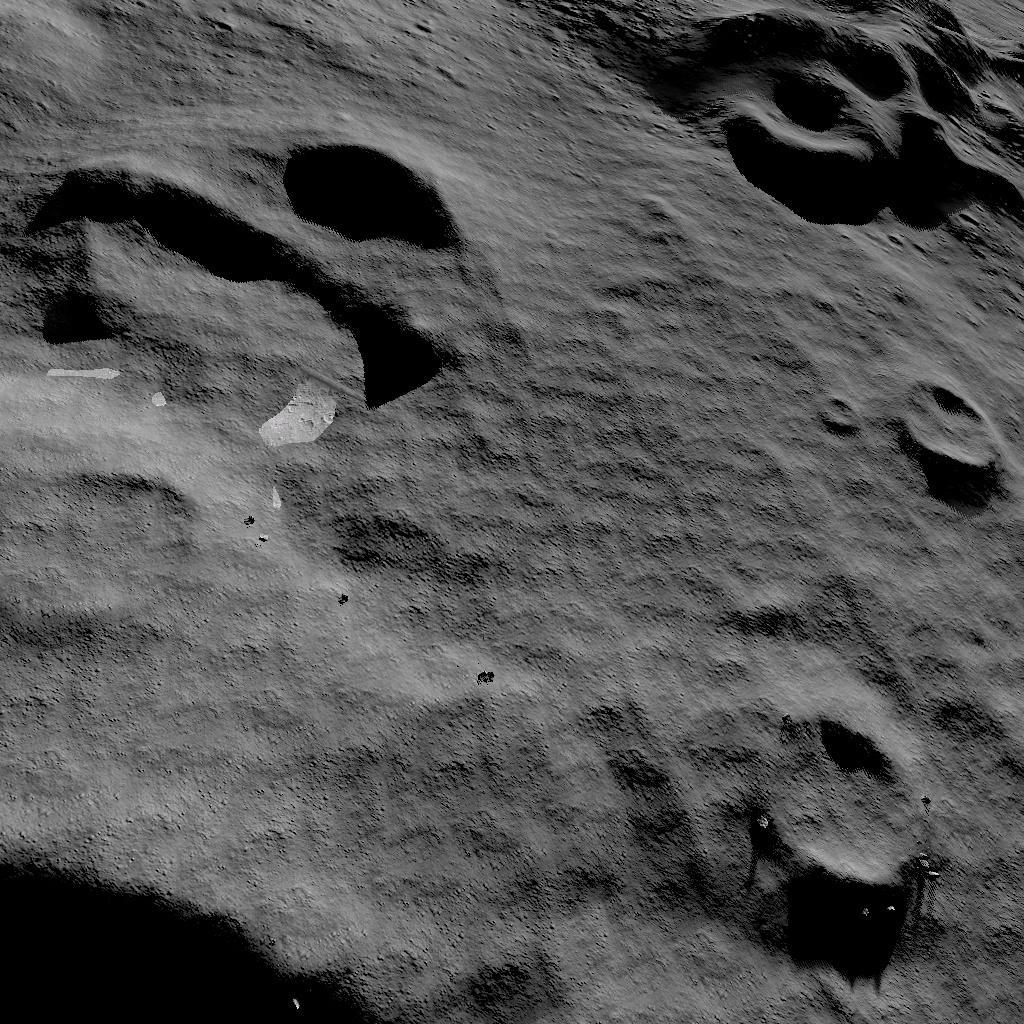Crater: (0, 108, 467, 400), (0, 808, 459, 1024), (624, 0, 1024, 226), (726, 680, 939, 908), (0, 438, 203, 626), (879, 350, 1007, 486), (814, 376, 851, 432)
Plan surface: (506, 243, 791, 648), (491, 696, 697, 1024)
